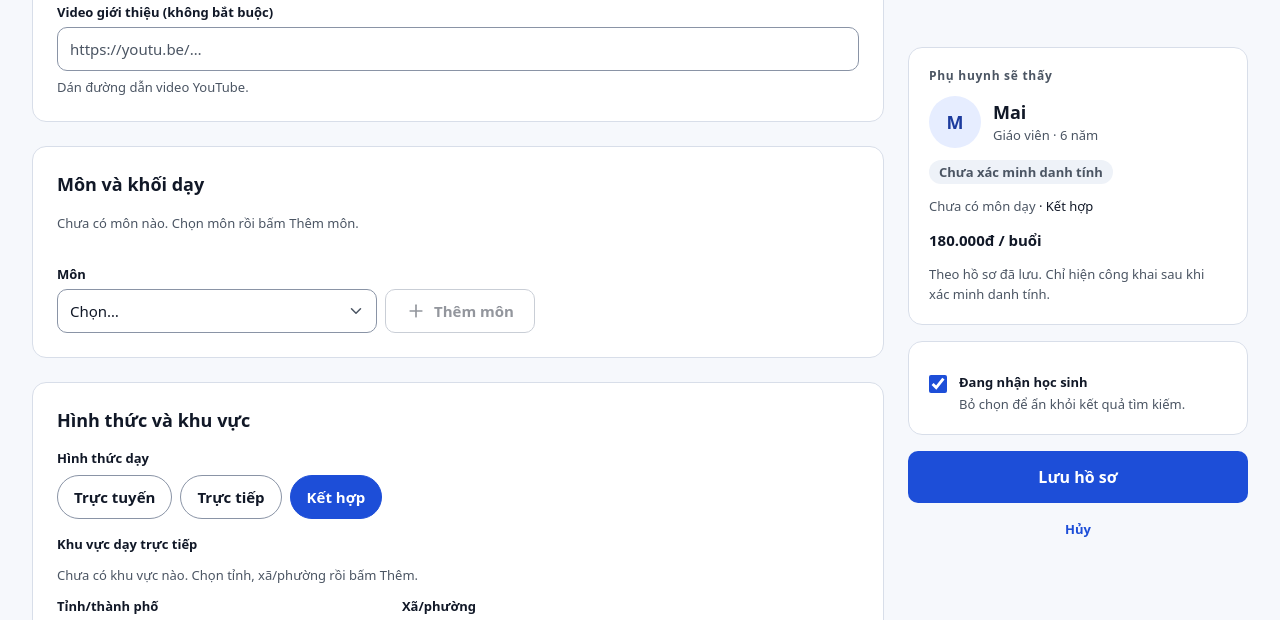
Scenario: edit tutor profile page › sends subjects, grades, areas and time slots chosen on the page
Later steps or results of the test are not shown.
(page scrolled)
// Thêm môn Vật lý, chọn Lớp 8 và Lớp 9.
Select "Vật lý" in the dropdown labelled "Môn": x=217, y=311 x1=57 y1=289 x2=377 y2=333
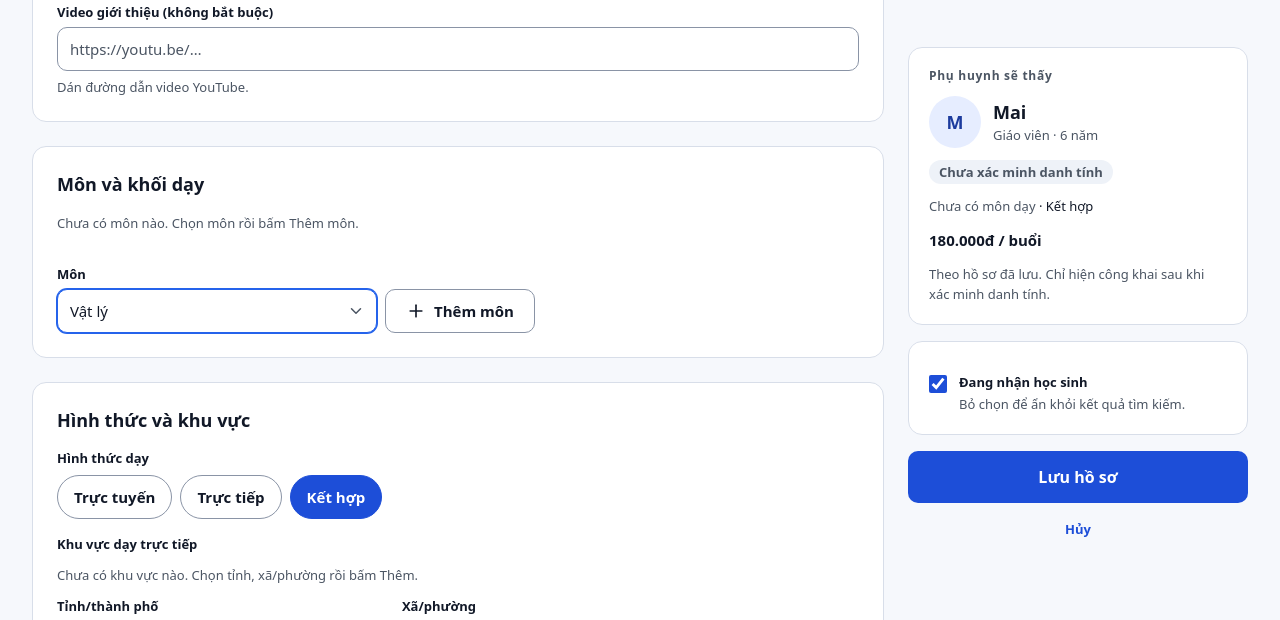
Click the button "Thêm môn": x=460, y=311 x1=385 y1=289 x2=535 y2=333
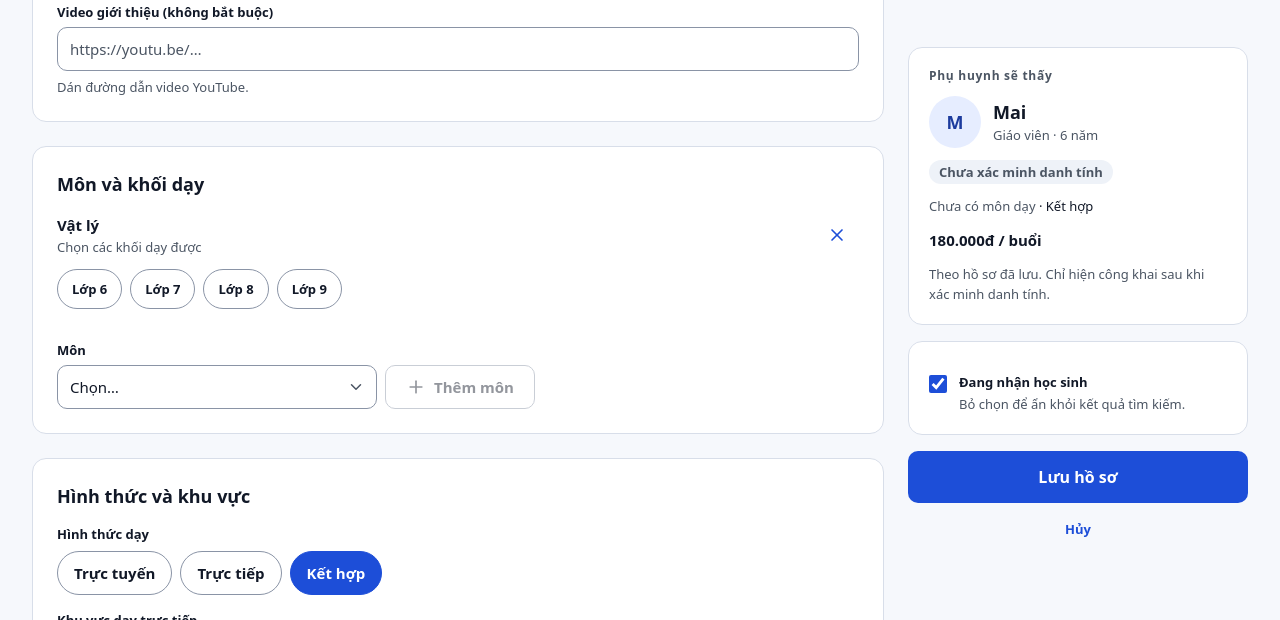
Click the button "Lớp 8": x=236, y=289 x1=203 y1=269 x2=269 y2=309
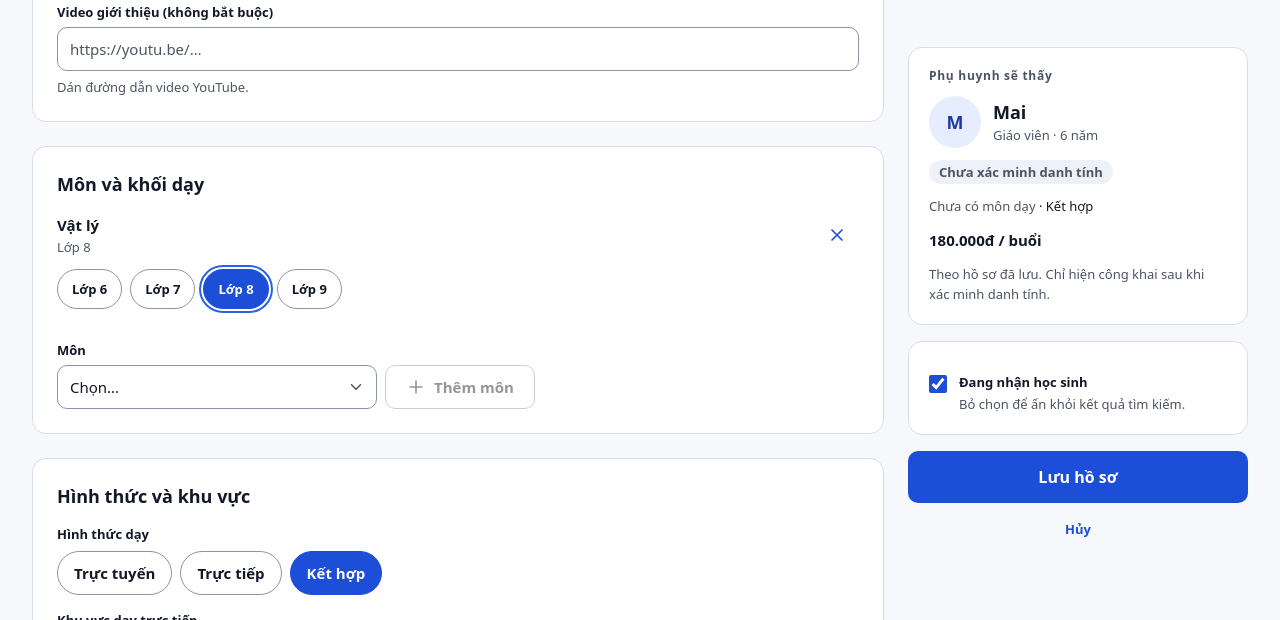
Click the button "Lớp 9": x=309, y=289 x1=277 y1=269 x2=342 y2=309
(page scrolled)
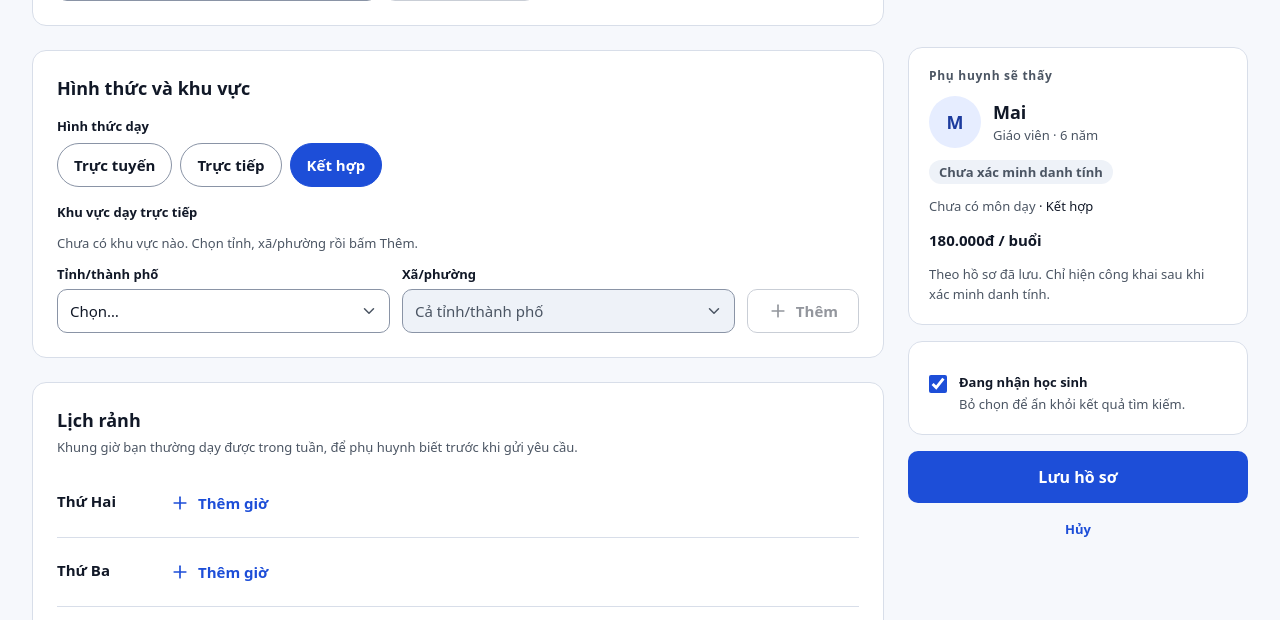
// Thêm cả tỉnh Hà Nội vào khu vực dạy trực tiếp.
Select "Hà Nội" in the dropdown labelled "Tỉnh/thành phố": x=223, y=311 x1=57 y1=289 x2=390 y2=333
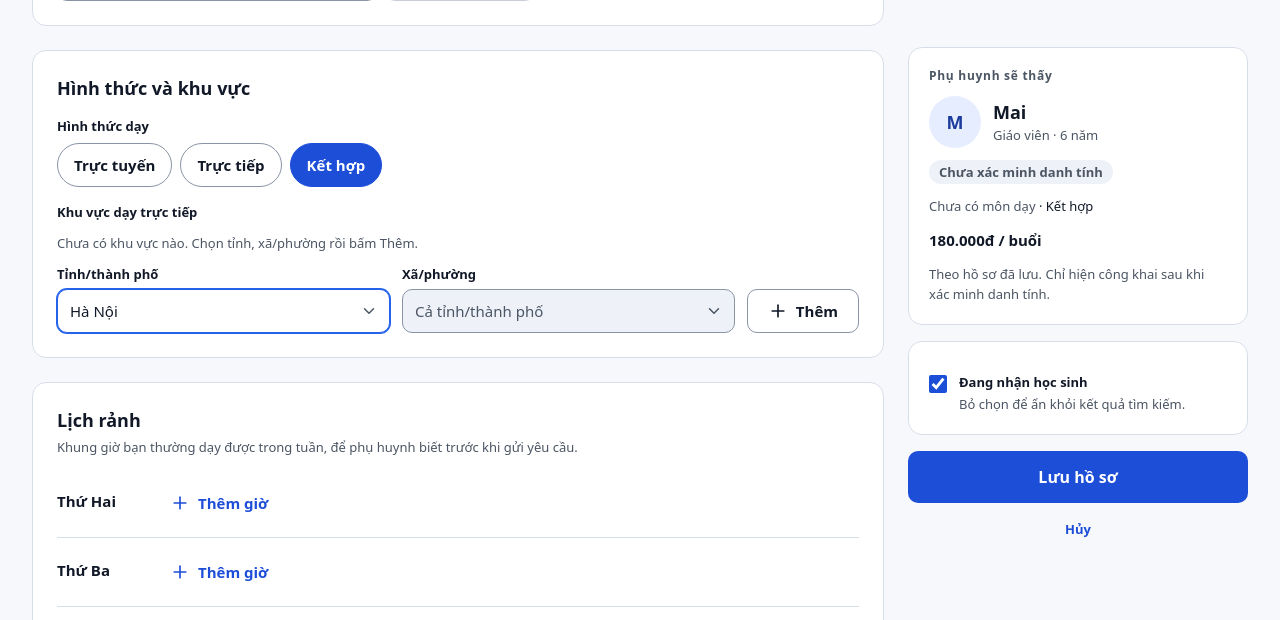
Click the button "Thêm": x=803, y=311 x1=747 y1=289 x2=859 y2=333
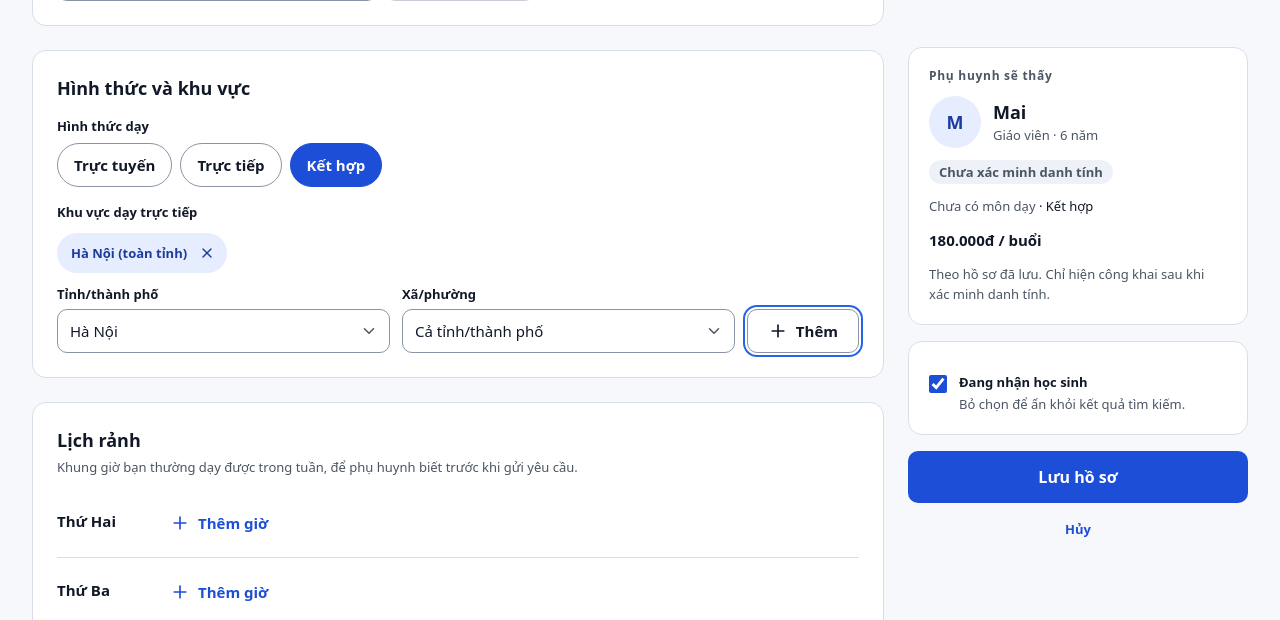
Expected: the list item "Hà Nội (toàn tỉnh)" is shown, x1=57 y1=233 x2=227 y2=273
